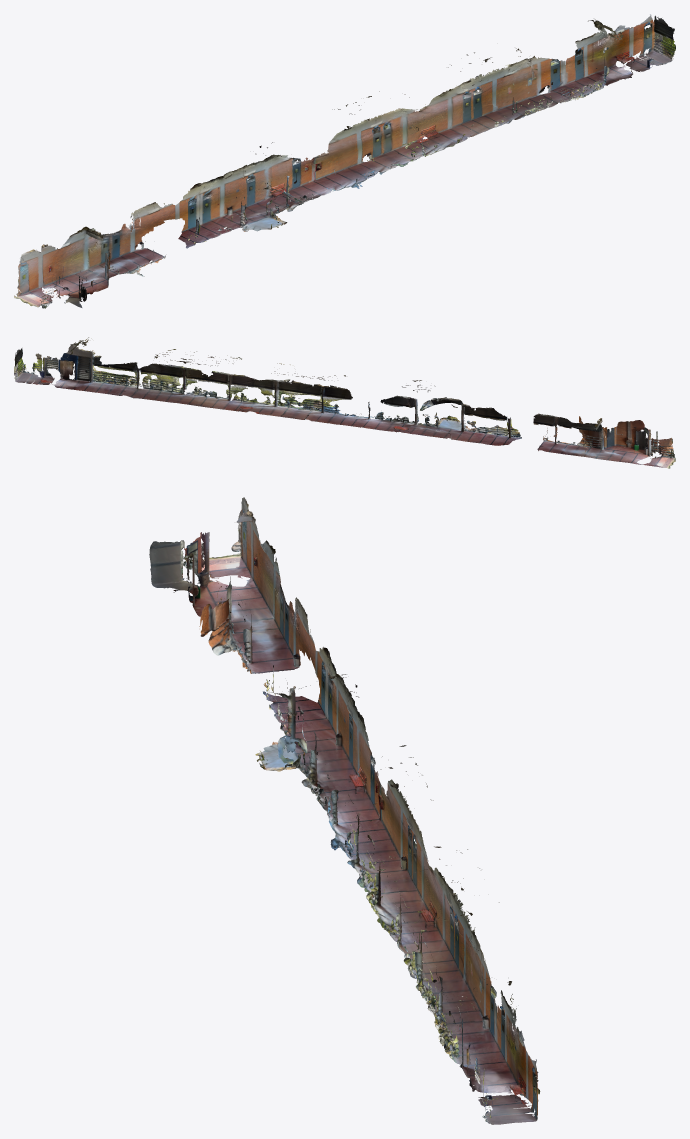
Rendered from pasillo-p3.glb.
3 renders of one model, top to bottom at view 1: azimuth 30°, elevation 25°; view 2: azimuth 150°, elevation 25°; view 3: azimuth 270°, elevation 25°, orthographic. The views are drawn at different scales.
Parts seen in each view (by area): view 1: mesh; view 2: mesh; view 3: mesh.
Part boxes in pixels (x1,y1,x2,y2): mesh: (14,14,675,308); mesh: (14,337,675,468); mesh: (149,497,540,1124).
Bounding box in the file's own units: 71.47 × 5.74 × 20.64.
1 material, 1 textured.
